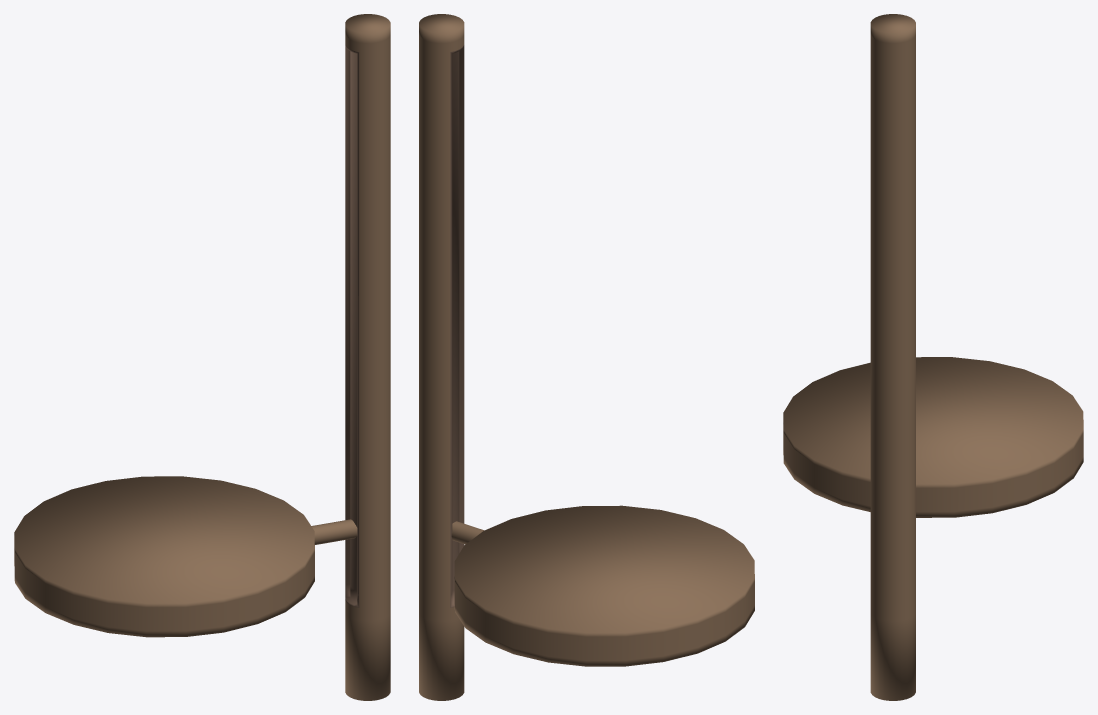
Rendered from Corn_CutRing.fbx.
3 views of the same model, side by side, from view 1: azimuth 30°, elevation 25°; view 2: azimuth 150°, elevation 25°; view 3: azimuth 270°, elevation 25° (orthographic).
Parts seen in each view (by area): view 1: Corn_CutRing, Corn_CutRingPillar; view 2: Corn_CutRing, Corn_CutRingPillar; view 3: Corn_CutRing, Corn_CutRingPillar.
Boxes of the visible parts, x1,y1,x2,y2 form: Corn_CutRing: (14, 476, 357, 637); Corn_CutRingPillar: (345, 14, 390, 700); Corn_CutRing: (451, 505, 754, 666); Corn_CutRingPillar: (419, 14, 464, 700); Corn_CutRing: (783, 357, 1083, 517); Corn_CutRingPillar: (870, 14, 915, 700).
Size of the model in its own units: 835 by 1601 by 653.
